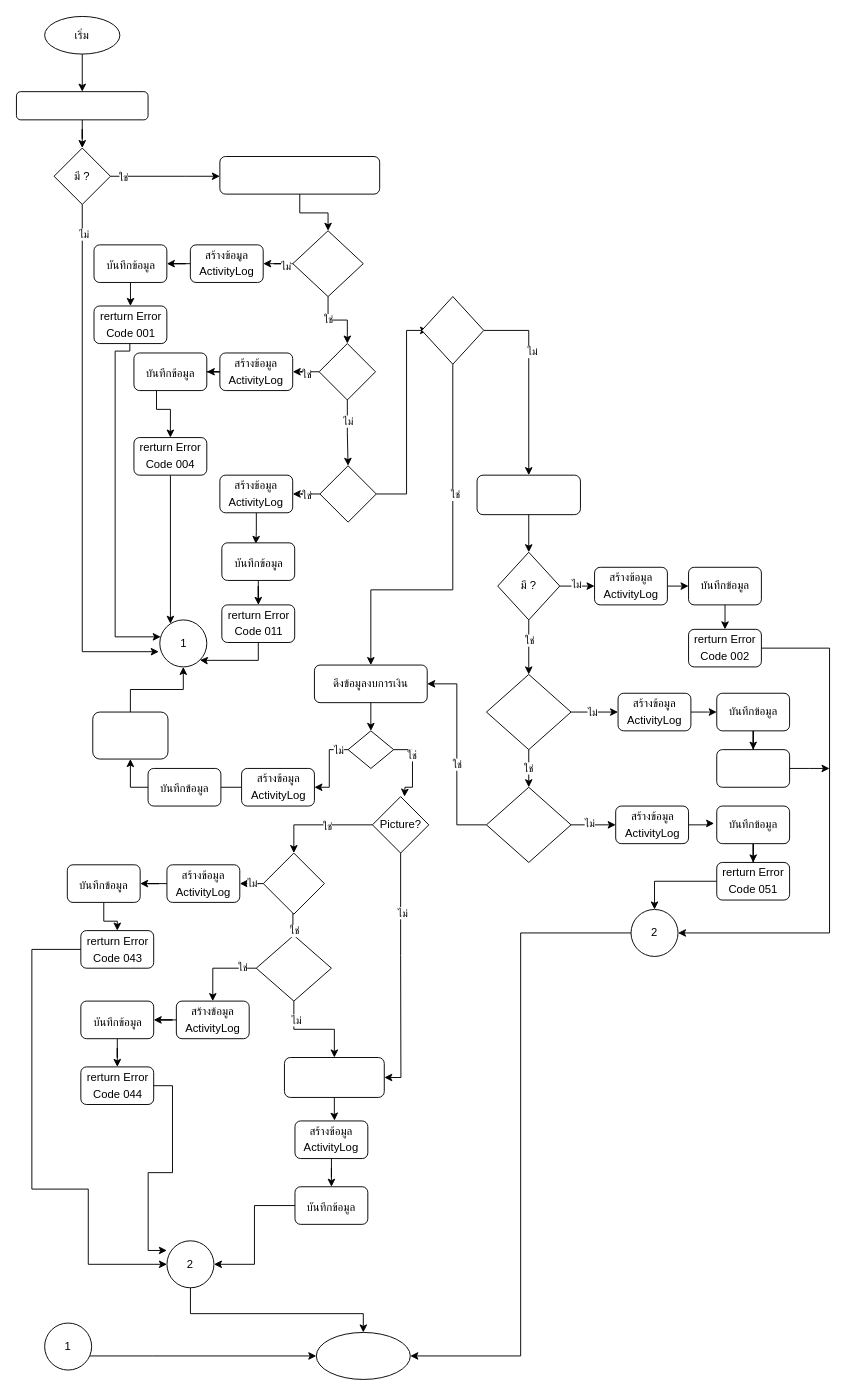
Some shapes in this 854 by 1396 pixel diagram are drawn without their labels. Each missing label, with the centre of its shape:
Company Active ?: the point at 528,824
Company มีในระบบ ไหม ?: the point at 528,712
Locked = 1 ?: the point at 347,493
rerturn Error Code 007: the point at 753,768
return Error code 061: the point at 130,735
status = 1 ?: the point at 347,371
Super Admin ?: the point at 452,330
ขนาดไฟล > 50mb ?: the point at 293,967
ตรวจสอบ Account สถานะการใช้งาน: the point at 299,175
ตรวจสอบสิทธิ์การใช้งาน: the point at 82,105
ตรวจสอบสิทธิ์การใช้งาน Company นี้ไหม: the point at 528,494
มี?: the point at 370,749
มีใน ระบบ ?: the point at 327,263
สิ้นสุด: the point at 362,1355
แก้ไขข้อมูลงบการเงิน: the point at 334,1077
ไฟล รูปภาพ ?: the point at 293,883
